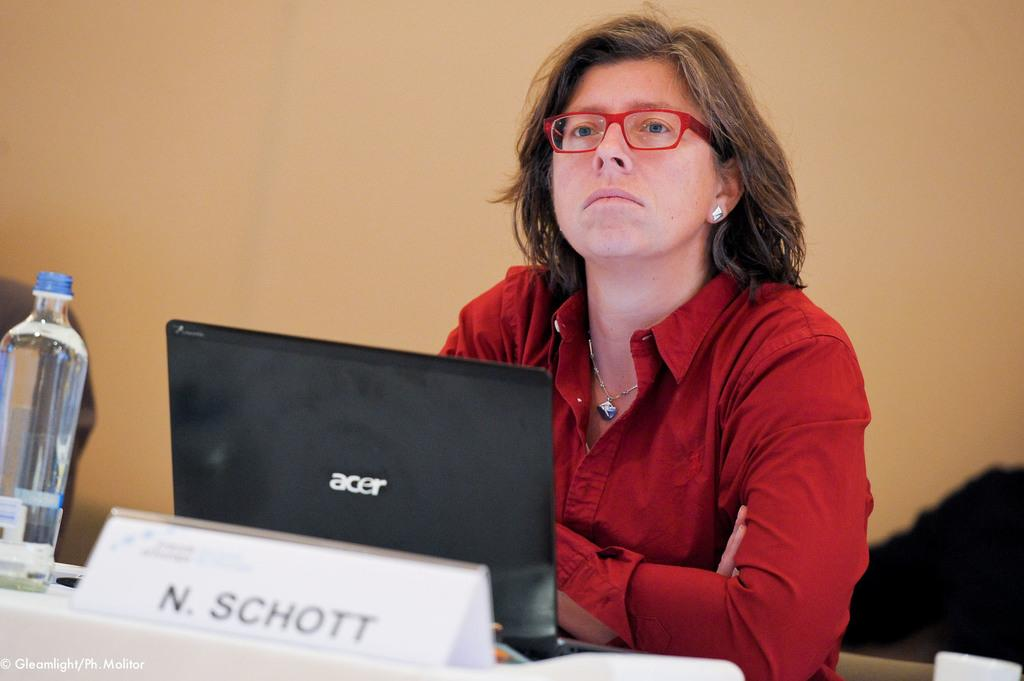Laptop: (147, 344, 564, 619)
